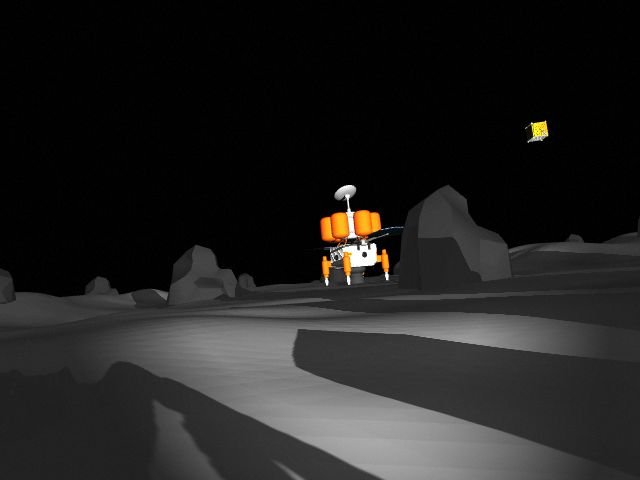homebase: (300, 183, 406, 287)
